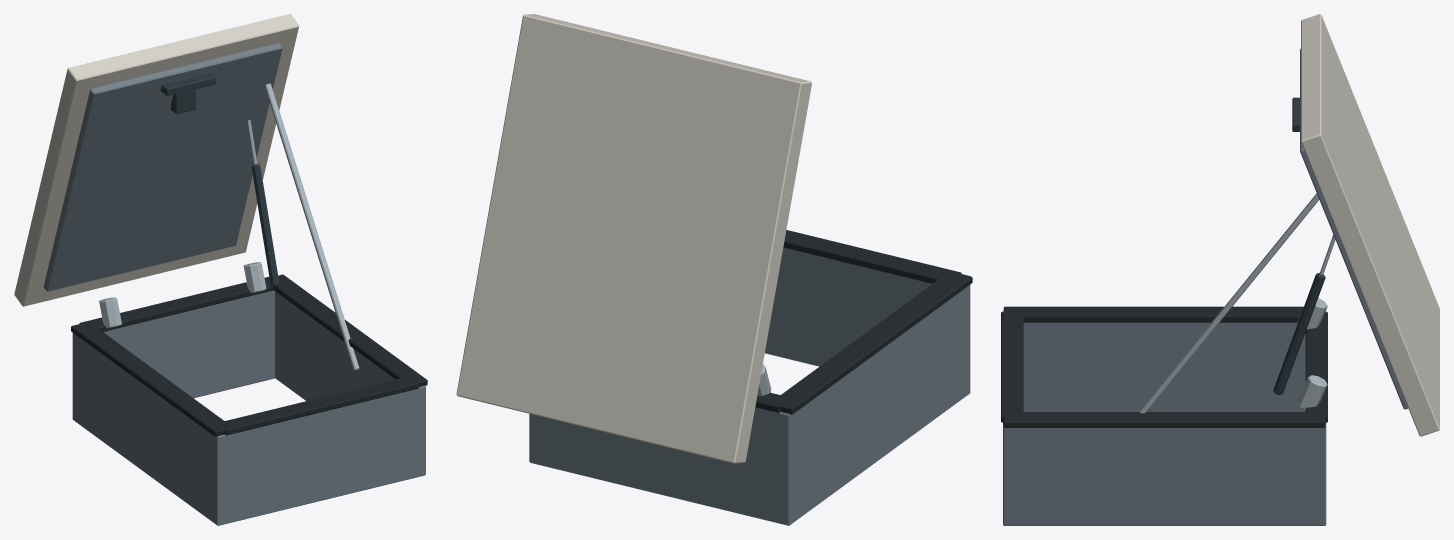
The model's file is b12_open_rooftop_access_hatch.glb.
3 views of the same model, side by side, from view 1: azimuth 30°, elevation 25°; view 2: azimuth 150°, elevation 25°; view 3: azimuth 270°, elevation 25° (orthographic). The views are drawn at different scales.
Visible parts, largest first — view 1: b12_open_rooftop_access_hatch; view 2: b12_open_rooftop_access_hatch; view 3: b12_open_rooftop_access_hatch.
Part boxes in pixels (<box>): b12_open_rooftop_access_hatch: <box>14,14,427,525</box>; b12_open_rooftop_access_hatch: <box>456,14,972,525</box>; b12_open_rooftop_access_hatch: <box>1001,14,1439,525</box>.
Size of the model in its own units: 0.99 by 1.51 by 1.51.
